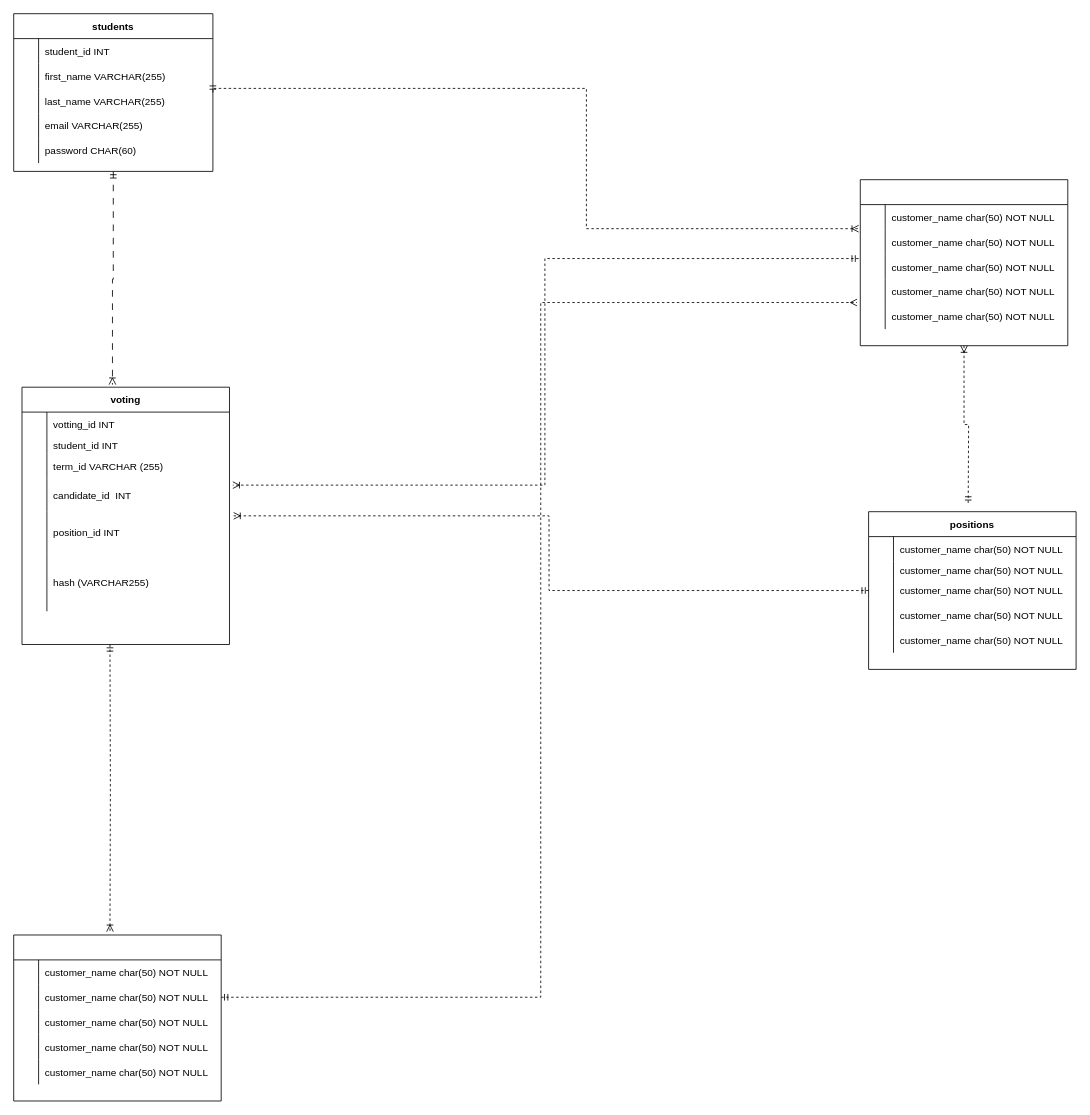
This 1090x1115 diagram has some shape labels left out. Here are the shapes that lost their labels. From the top down, the box of each, then its label:
(859, 179, 1068, 346): candidates
(13, 934, 221, 1101): term
